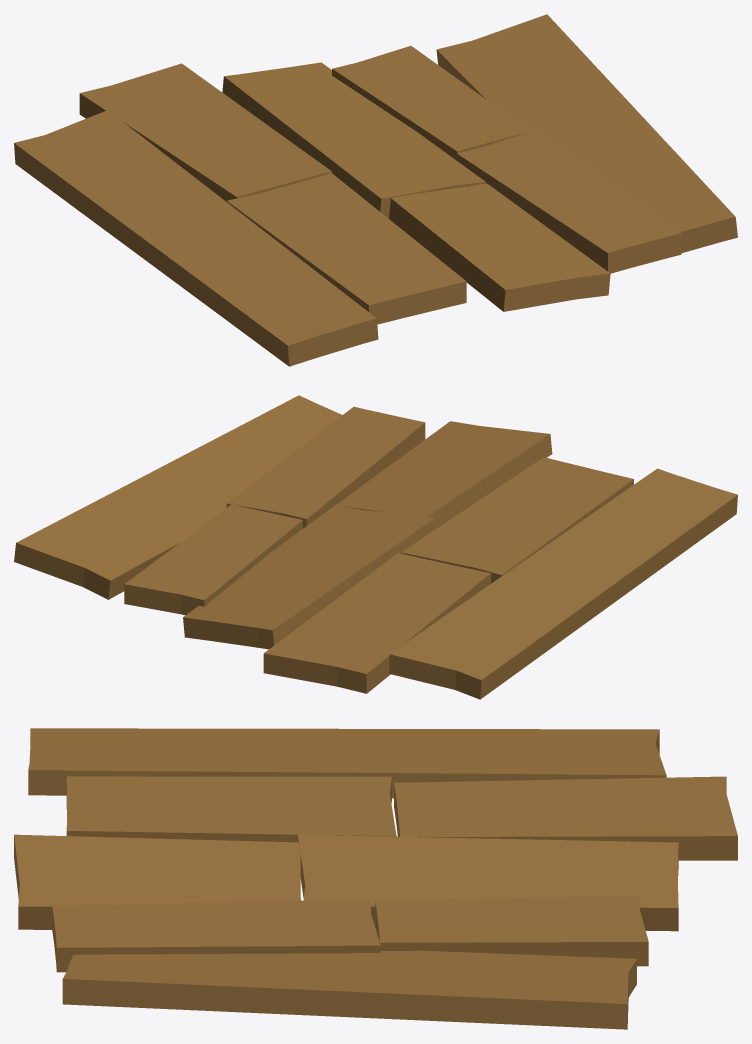
Rendered from trapdoorblender.fbx.
The picture shows the model from 3 angles, top to bottom: view 1: azimuth 30°, elevation 25°; view 2: azimuth 150°, elevation 25°; view 3: azimuth 270°, elevation 25°; orthographic projection. The views are drawn at different scales.
Visible parts, largest first — view 1: Cube.006, Cube.010, Cube.012, Cube.008, Cube.011, Cube.007, Cube.013, Cube.009; view 2: Cube.006, Cube.010, Cube.012, Cube.007, Cube.008, Cube.011, Cube.013, Cube.009; view 3: Cube.010, Cube.006, Cube.012, Cube.007, Cube.008, Cube.011, Cube.013, Cube.009.
Boxes of the visible parts, x1,y1,x2,y2 form: Cube.006: [14, 110, 378, 366]; Cube.010: [436, 14, 737, 252]; Cube.012: [222, 62, 485, 218]; Cube.008: [226, 173, 466, 324]; Cube.011: [389, 183, 610, 311]; Cube.007: [79, 63, 331, 201]; Cube.013: [456, 130, 681, 273]; Cube.009: [332, 46, 530, 160]; Cube.006: [389, 468, 737, 699]; Cube.010: [14, 395, 342, 599]; Cube.012: [183, 505, 436, 649]; Cube.007: [263, 553, 490, 693]; Cube.008: [401, 457, 633, 583]; Cube.011: [336, 421, 552, 528]; Cube.013: [226, 406, 425, 528]; Cube.009: [124, 504, 302, 615]; Cube.010: [62, 950, 636, 1029]; Cube.006: [28, 728, 666, 798]; Cube.012: [297, 834, 678, 931]; Cube.007: [394, 776, 737, 860]; Cube.008: [66, 776, 396, 842]; Cube.011: [14, 834, 300, 929]; Cube.013: [52, 899, 380, 972]; Cube.009: [375, 895, 648, 966].
Bounding box in the file's own units: 171 × 12.27 × 180.
